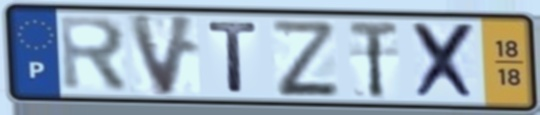R: (56, 12, 132, 95)
T: (346, 19, 402, 101), (205, 19, 262, 95)
V: (124, 10, 201, 100)
X: (409, 20, 480, 103)
Z: (267, 17, 344, 99)
